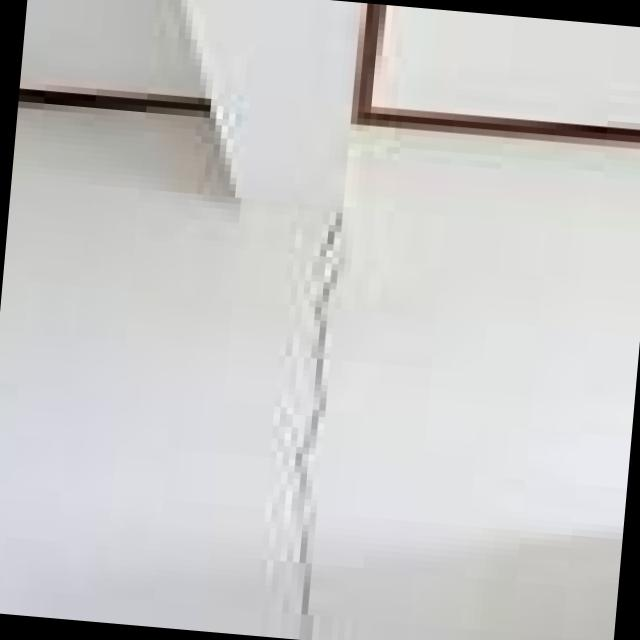crack: (273, 198, 356, 634)
